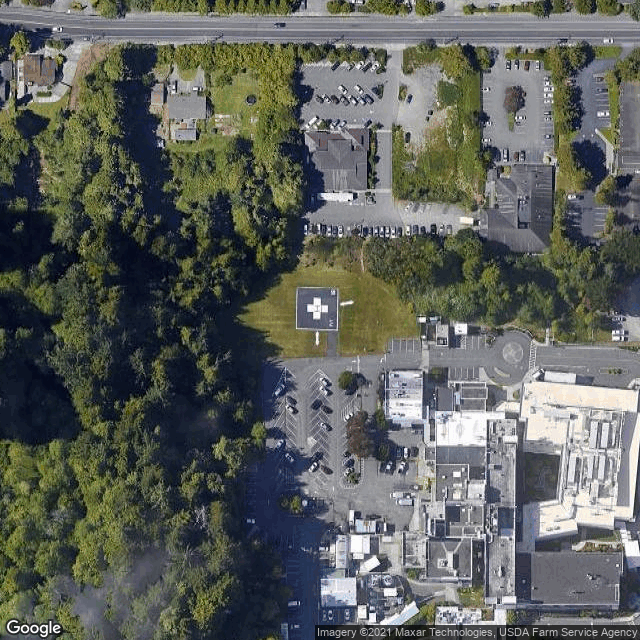Helipad: (294, 283, 339, 333)
